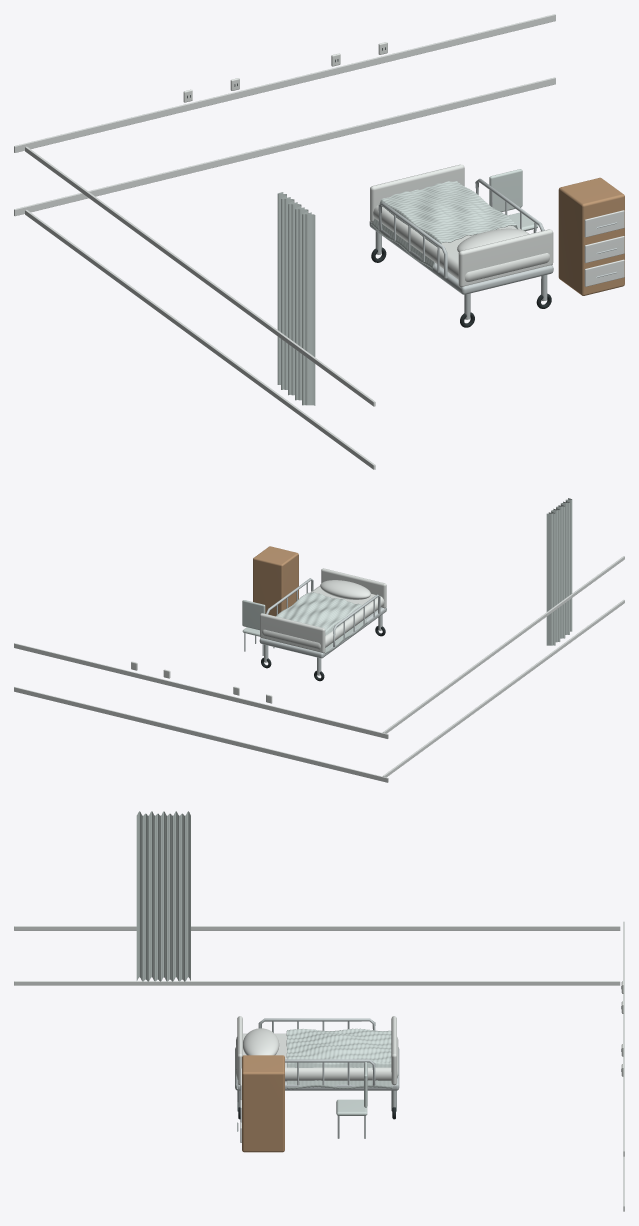
The model's file is HospitalDetails.fbx.
3 views of the same model, one above another, from view 1: azimuth 30°, elevation 25°; view 2: azimuth 150°, elevation 25°; view 3: azimuth 270°, elevation 25° (orthographic). The views are drawn at different scales.
Parts seen in each view (by area): view 1: Curtain fabric and weighted folds, Woven duvet with drape and folds, Bedside cabinet, Wall skirting.001, Wall skirting, Moulded headboard, Mattress with rounded sewn edges, Clinical wall rail.001, Clinical wall rail, Moulded headboard.001, Bed platform, Chair back (+4 smaller); view 2: Curtain fabric and weighted folds, Bedside cabinet, Woven duvet with drape and folds, Wall skirting.001, Wall skirting, Mattress with rounded sewn edges, Moulded headboard.001, Clinical wall rail, Clinical wall rail.001, Moulded headboard, Soft pillow, Bed platform (+1 smaller); view 3: Curtain fabric and weighted folds, Woven duvet with drape and folds, Bedside cabinet, Clinical wall rail, Clinical wall rail.001, Mattress with rounded sewn edges, Soft pillow, Bed platform.
Boxes of the visible parts, <box> form: Curtain fabric and weighted folds: <box>277,192,315,405</box>; Woven duvet with drape and folds: <box>371,181,518,269</box>; Bedside cabinet: <box>558,177,624,295</box>; Wall skirting.001: <box>14,14,555,152</box>; Wall skirting: <box>14,77,555,216</box>; Moulded headboard: <box>458,229,553,287</box>; Mattress with rounded sewn edges: <box>373,204,549,281</box>; Clinical wall rail.001: <box>25,146,375,406</box>; Clinical wall rail: <box>25,210,375,469</box>; Moulded headboard.001: <box>370,164,464,222</box>; Bed platform: <box>369,221,553,294</box>; Chair back: <box>489,169,522,212</box>; Curtain fabric and weighted folds: <box>546,498,572,645</box>; Bedside cabinet: <box>253,546,298,616</box>; Woven duvet with drape and folds: <box>276,592,367,653</box>; Wall skirting.001: <box>14,643,388,738</box>; Wall skirting: <box>14,687,388,782</box>; Mattress with rounded sewn edges: <box>262,585,384,649</box>; Moulded headboard.001: <box>260,613,325,653</box>; Clinical wall rail: <box>382,599,624,777</box>; Clinical wall rail.001: <box>382,556,624,733</box>; Moulded headboard: <box>321,568,386,608</box>; Soft pillow: <box>320,580,370,599</box>; Bed platform: <box>259,607,386,658</box>; Curtain fabric and weighted folds: <box>136,811,190,981</box>; Woven duvet with drape and folds: <box>286,1028,392,1089</box>; Bedside cabinet: <box>242,1055,284,1152</box>; Clinical wall rail: <box>14,981,620,985</box>; Clinical wall rail.001: <box>14,926,620,930</box>; Mattress with rounded sewn edges: <box>236,1033,398,1081</box>; Soft pillow: <box>243,1028,279,1055</box>; Bed platform: <box>235,1047,399,1090</box>.
Size of the model in its own units: 8.6 by 3.17 by 9.67.
